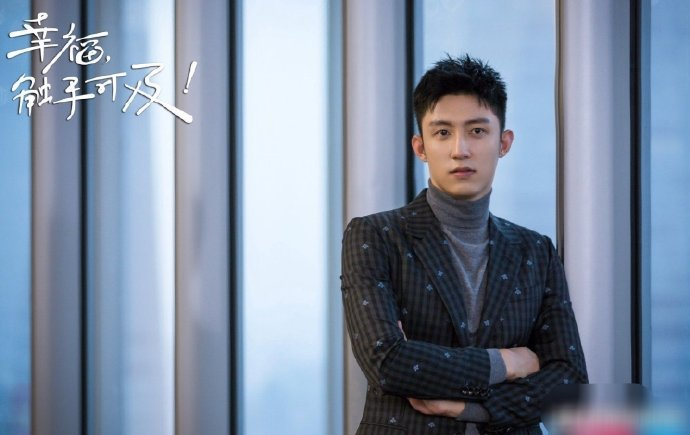noWear: (410, 102, 515, 197)
